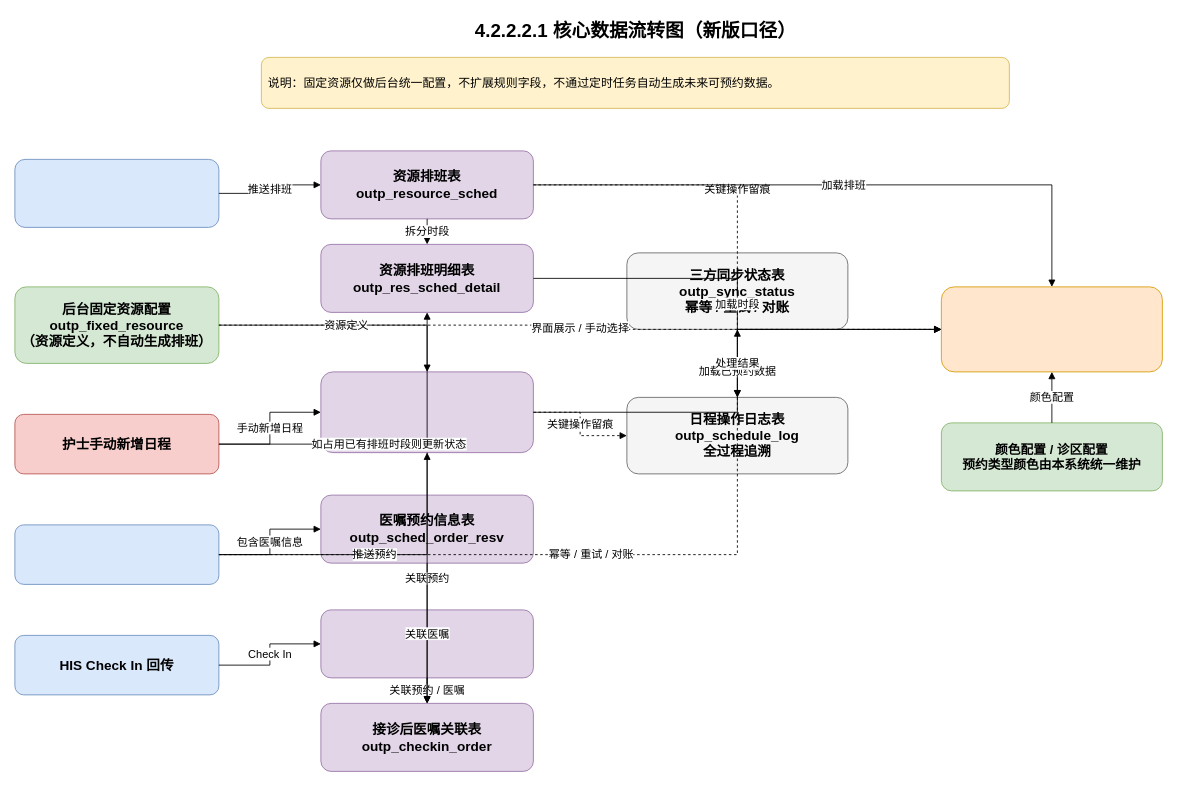
This 1177x786 diagram has some shape labels left out. Each missing label, with the box of its shape:
三方系统推送排班 HIS / 康复 / 医技 / 手麻: (14, 159, 219, 227)
三方系统推送预约数据: (14, 524, 219, 584)
日程 / 预约记录表 outp_schedule_reserved （记录预约类型，用于颜色展示）: (320, 371, 533, 453)
日程看板 / 业务使用侧 按资源 + 时段展示 已预约按预约类型着色: (941, 286, 1162, 372)
门诊护士接诊表 outpatient_checkin: (320, 609, 533, 678)
